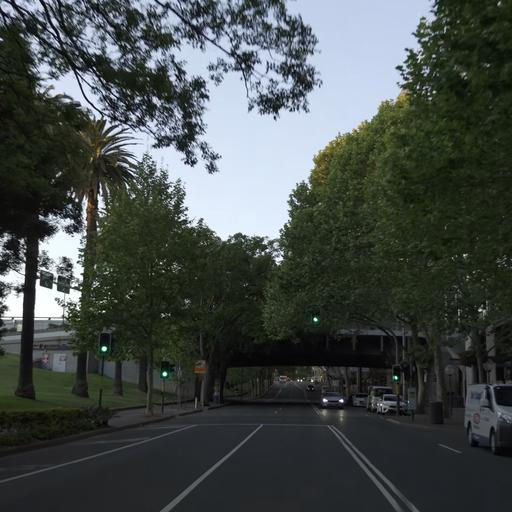Street light: (97, 331, 110, 407), (159, 360, 169, 414), (391, 363, 401, 415), (98, 332, 110, 354), (391, 363, 400, 382), (160, 360, 169, 378), (311, 309, 320, 325)
